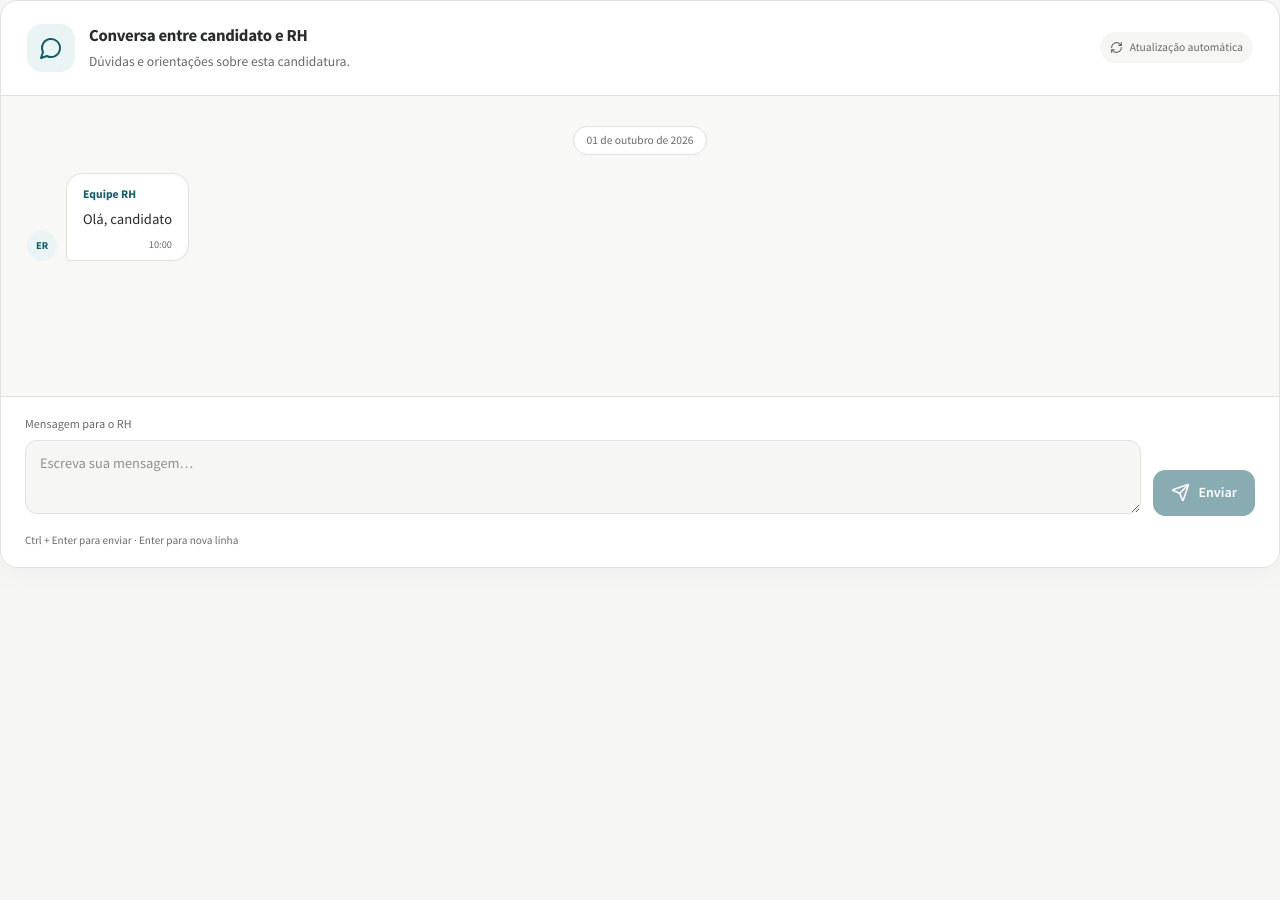
envia resposta vinculada à candidatura e preserva o texto quando o envio falha
Check: the text "Olá, candidato" is shown, box top-left (83, 208), bottom-right (172, 232)
In the text box labelled "Mensagem para o RH": (583, 477) top-left (25, 440), bottom-right (1140, 514), type "Minha dúvida"
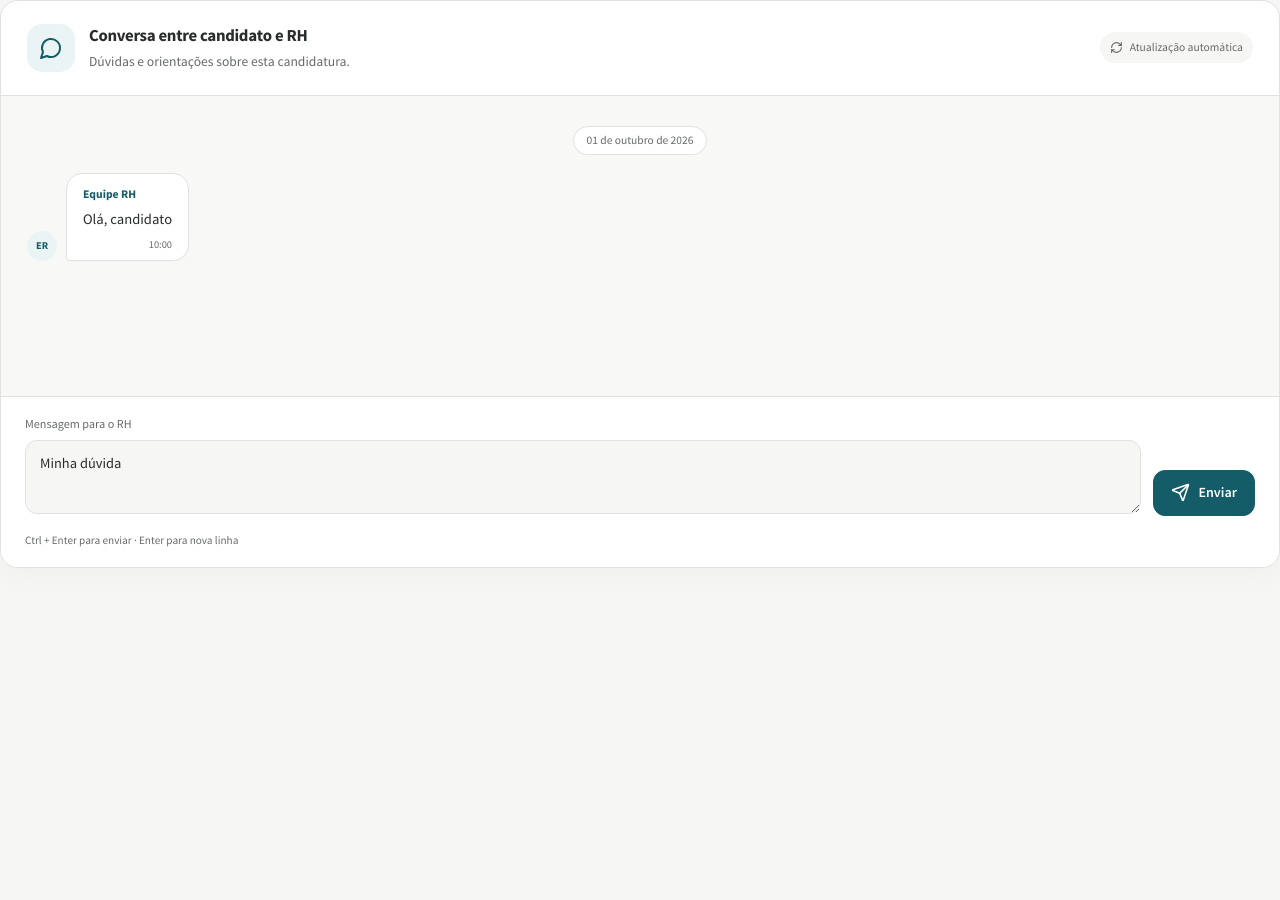
Click the button with aria-label "Enviar mensagem": (1204, 493) top-left (1152, 470), bottom-right (1255, 516)
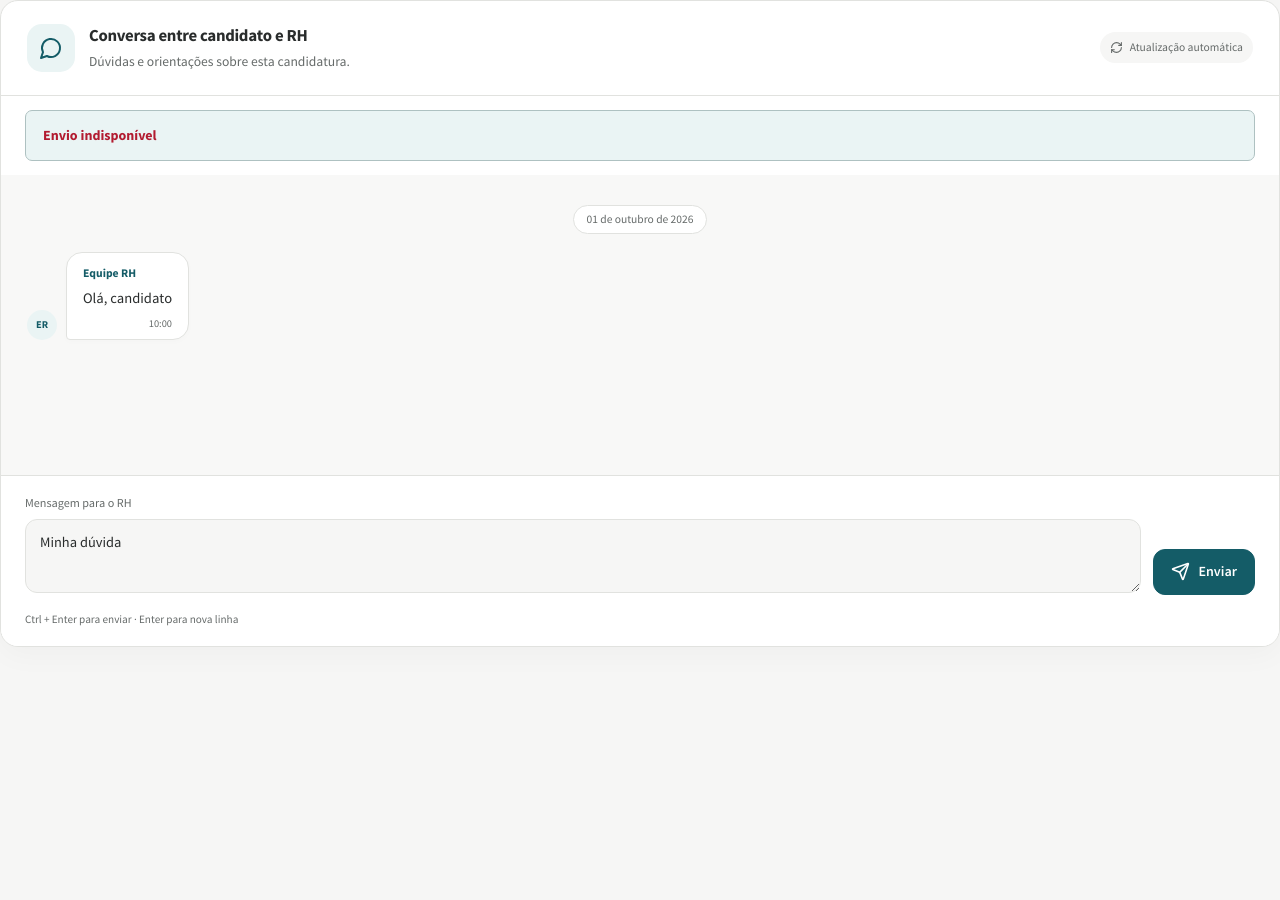
Check: the message reads "Envio indisponível", box top-left (43, 126), bottom-right (157, 144)
Click the button with aria-label "Enviar mensagem": (1204, 572) top-left (1152, 549), bottom-right (1255, 595)
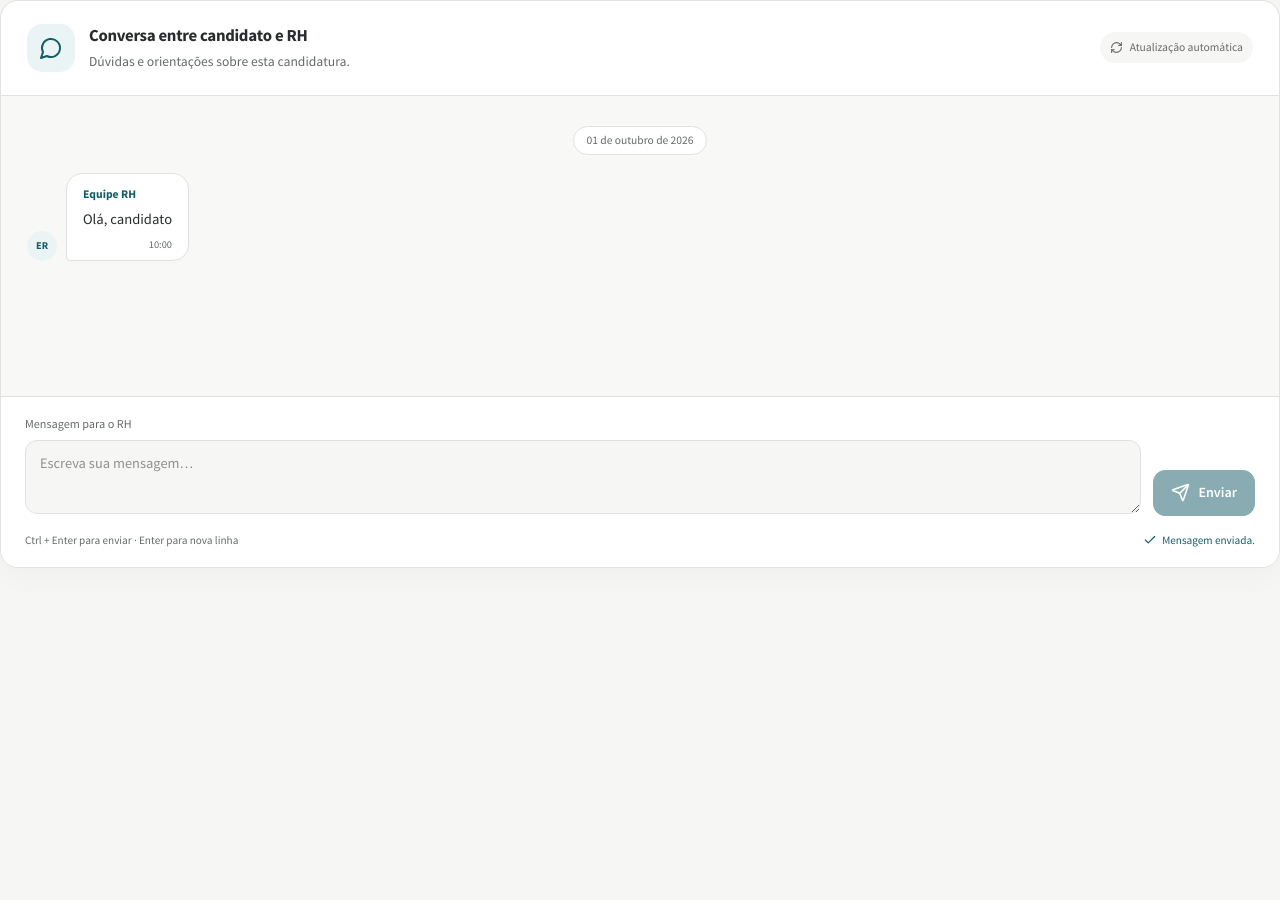
Check: the text box labelled "Mensagem para o RH" is empty, box top-left (25, 440), bottom-right (1140, 514)
